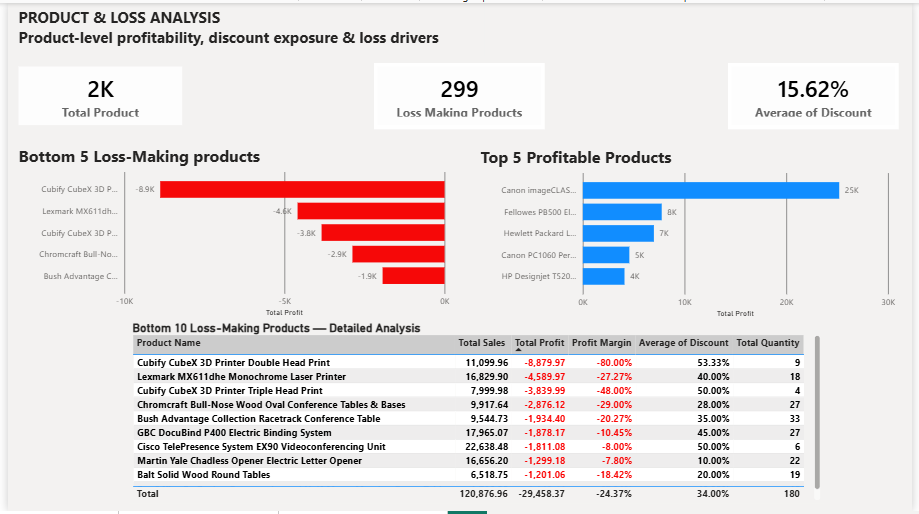

The page's visual inventory and layout, read from the dashboard file:
{"tool":"powerbi","page":{"name":"Product & Loss Analysis","canvas":[1280,720],"ordinal":2},"visuals":[{"type":"textbox","box":[10.1,0,665.3,74.9],"z":0},{"type":"clusteredBarChart","title":"Bottom 5 Loss-Making products","fields":{"Category":["Sales_Clean.Product Name"],"Y":["Sales_Clean.Total Profit"]},"box":[9.9,201.3,620.8,248],"z":4000},{"type":"clusteredBarChart","title":"Top 5 Profitable Products","fields":{"Category":["Sales_Clean.Product Name"],"Y":["Sales_Clean.Total Profit"]},"box":[664.7,202.7,597.6,247.7],"z":5000},{"type":"tableEx","title":"Bottom 10 Loss-Making Products — Detailed Analysis","fields":{"Values":["Sales_Clean.Product Name","Sales_Clean.Total Sales","Sales_Clean.Total Profit","Sales_Clean.Profit Margin","Avg(Sales_Clean.Discount)","Sales_Clean.Total Quantity"]},"box":[171.5,450.7,985,259.4],"z":6000},{"type":"cardVisual","fields":{"Data":["Sales_Clean.Total Product"]},"box":[9.9,85,242.4,93.5],"z":6001},{"type":"cardVisual","fields":{"Data":["Sales_Clean.Loss Making Products"]},"box":[518.7,85,242.4,93.5],"z":6002},{"type":"cardVisual","fields":{"Data":["Avg(Sales_Clean.Discount)"]},"box":[1020.5,85,242.4,93.5],"z":6003}]}

Visuals, with their boxes in screenshot pixels (x1, y1, x2, y2), scaled from the page's 1280x720 canvas onto the 919x514 screenshot:
textbox: Rect(7, 0, 485, 53)
"Bottom 5 Loss-Making products" clusteredBarChart: Rect(7, 144, 453, 321)
"Top 5 Profitable Products" clusteredBarChart: Rect(477, 145, 906, 322)
"Bottom 10 Loss-Making Products — Detailed Analysis" tableEx: Rect(123, 322, 830, 507)
cardVisual - Sales_Clean.Total Product: Rect(7, 61, 181, 127)
cardVisual - Sales_Clean.Loss Making Products: Rect(372, 61, 546, 127)
cardVisual - Avg(Sales_Clean.Discount): Rect(733, 61, 907, 127)
